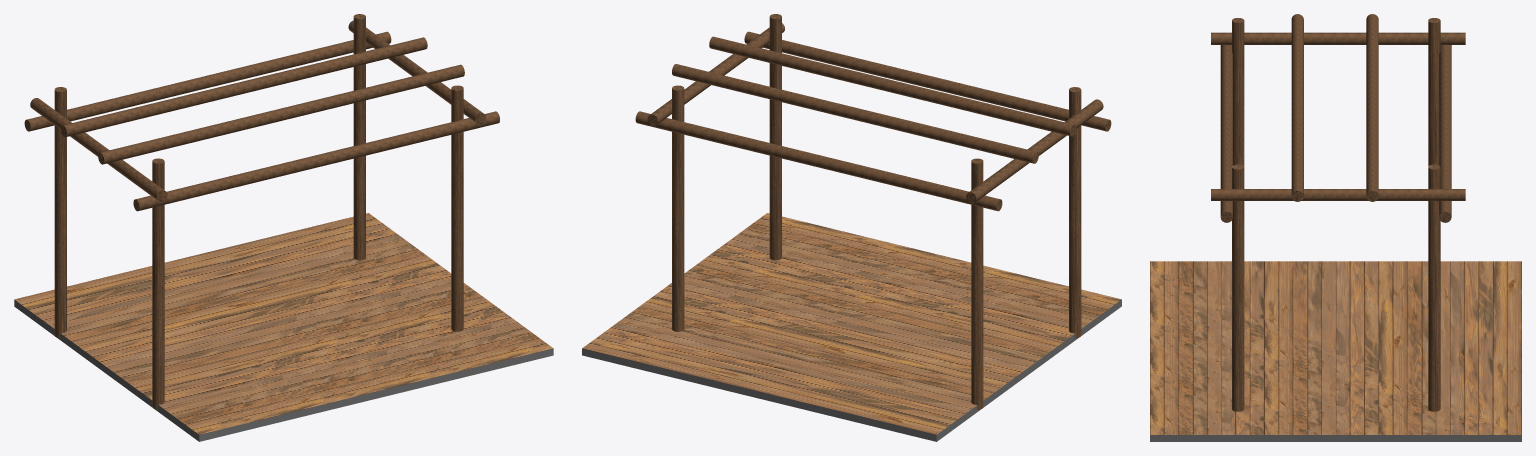
Rendered from Meditation_Platform.fbx.
3 views of the same model, side by side, from view 1: azimuth 30°, elevation 25°; view 2: azimuth 150°, elevation 25°; view 3: azimuth 270°, elevation 25° (orthographic).
Visible parts, largest first — view 1: Platform, pasted__pasted__Pole_VertFR, pasted__pasted__pasted__Pole_VertFR, pasted__pasted__Pole_VertFR1, pasted__Pole_VertFR1, pasted__pasted__pCylinder1, Pole_VertFR, pasted__pCylinder1, pasted__Pole_VertFR, pasted__Pole_VertFR2, pasted__pasted__Pole_VertFR2; view 2: Platform, pasted__pasted__pasted__Pole_VertFR, pasted__pasted__Pole_VertFR, pasted__Pole_VertFR1, pasted__pasted__Pole_VertFR1, pasted__Pole_VertFR, pasted__pCylinder1, Pole_VertFR, pasted__pasted__pCylinder1, pasted__Pole_VertFR2, pasted__pasted__Pole_VertFR2; view 3: Platform, pasted__pasted__pCylinder1, pasted__Pole_VertFR, pasted__pasted__Pole_VertFR2, pasted__Pole_VertFR2, pasted__pasted__Pole_VertFR, pasted__pasted__pasted__Pole_VertFR, pasted__pasted__Pole_VertFR1, pasted__Pole_VertFR1, pasted__pCylinder1, Pole_VertFR.
Part boxes in pixels (bbox=[...]): Platform: bbox=[14, 213, 553, 441]; pasted__pasted__Pole_VertFR: bbox=[61, 37, 427, 137]; pasted__pasted__pasted__Pole_VertFR: bbox=[98, 64, 464, 164]; pasted__pasted__Pole_VertFR1: bbox=[133, 111, 499, 211]; pasted__Pole_VertFR1: bbox=[24, 31, 391, 131]; pasted__pasted__pCylinder1: bbox=[451, 85, 463, 331]; Pole_VertFR: bbox=[54, 87, 66, 337]; pasted__pCylinder1: bbox=[152, 158, 164, 409]; pasted__Pole_VertFR: bbox=[353, 14, 365, 260]; pasted__Pole_VertFR2: bbox=[30, 98, 167, 201]; pasted__pasted__Pole_VertFR2: bbox=[348, 20, 485, 124]; Platform: bbox=[582, 213, 1121, 441]; pasted__pasted__pasted__Pole_VertFR: bbox=[709, 36, 1075, 136]; pasted__pasted__Pole_VertFR: bbox=[672, 64, 1038, 163]; pasted__Pole_VertFR1: bbox=[635, 111, 1002, 211]; pasted__pasted__Pole_VertFR1: bbox=[744, 31, 1111, 131]; pasted__Pole_VertFR: bbox=[672, 85, 684, 331]; pasted__pCylinder1: bbox=[1069, 87, 1081, 338]; Pole_VertFR: bbox=[971, 158, 983, 409]; pasted__pasted__pCylinder1: bbox=[769, 14, 781, 260]; pasted__Pole_VertFR2: bbox=[966, 99, 1103, 203]; pasted__pasted__Pole_VertFR2: bbox=[647, 23, 784, 125]; Platform: bbox=[1150, 261, 1521, 441]; pasted__pasted__pCylinder1: bbox=[1232, 164, 1244, 411]; pasted__Pole_VertFR: bbox=[1428, 164, 1440, 411]; pasted__pasted__Pole_VertFR2: bbox=[1211, 189, 1465, 200]; pasted__Pole_VertFR2: bbox=[1211, 32, 1465, 44]; pasted__pasted__Pole_VertFR: bbox=[1366, 14, 1378, 201]; pasted__pasted__pasted__Pole_VertFR: bbox=[1291, 14, 1303, 201]; pasted__pasted__Pole_VertFR1: bbox=[1220, 45, 1232, 222]; pasted__Pole_VertFR1: bbox=[1439, 45, 1451, 222]; pasted__pCylinder1: bbox=[1232, 18, 1244, 166]; Pole_VertFR: bbox=[1428, 18, 1440, 165].
Size of the model in its own units: 284 by 178 by 240.
4 materials, 3 textured.
